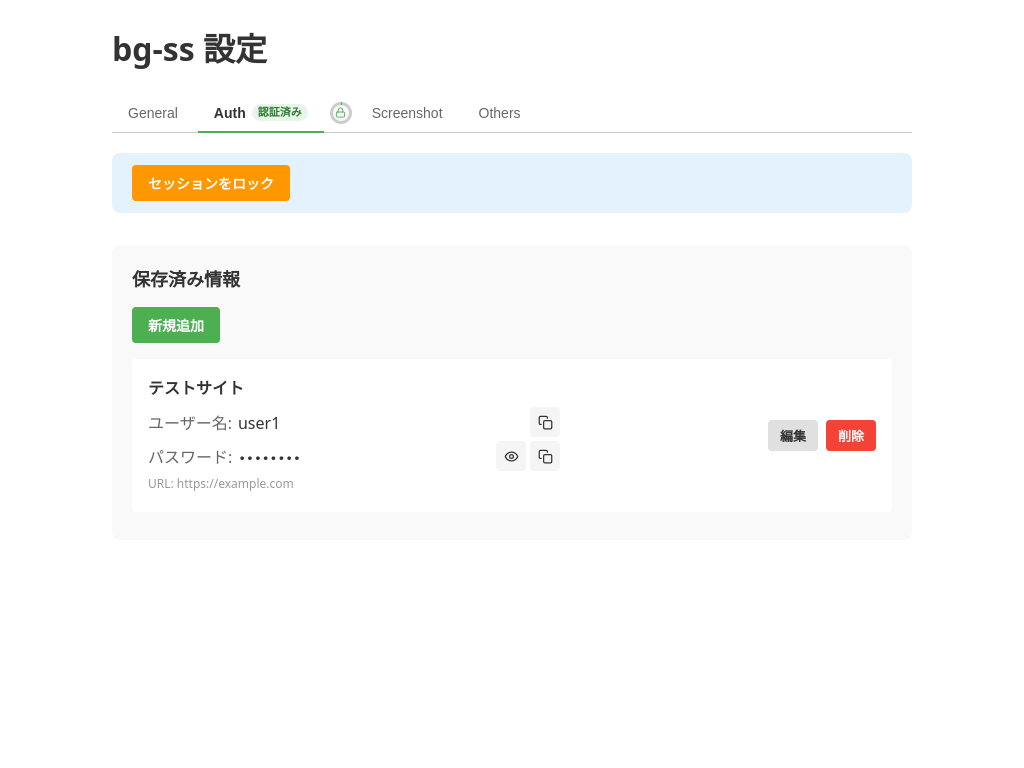
Test: Options App › 情報編集 › 編集ボタンをクリックすると編集フォームが表示される
The image size is (1024, 768).
// 編集ボタンをクリック
Click the button "編集". click: [793, 436]
box: x1=768 y1=420 x2=818 y2=451
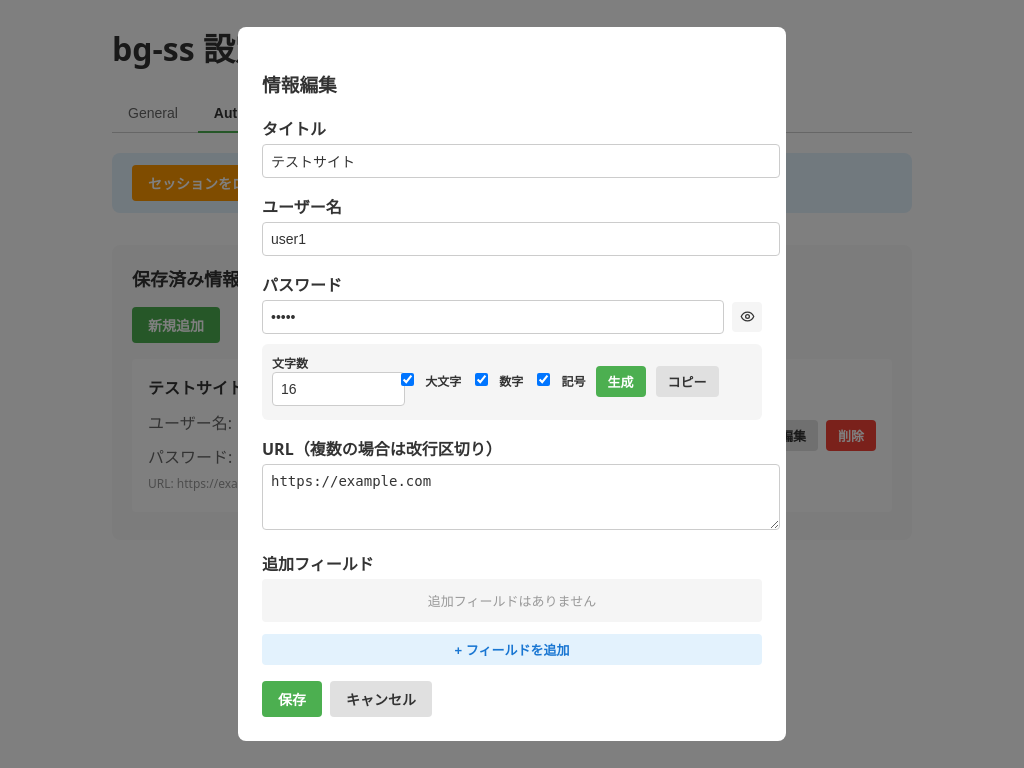
Expected: the text "情報編集" is shown, x1=262 y1=72 x2=337 y2=97
